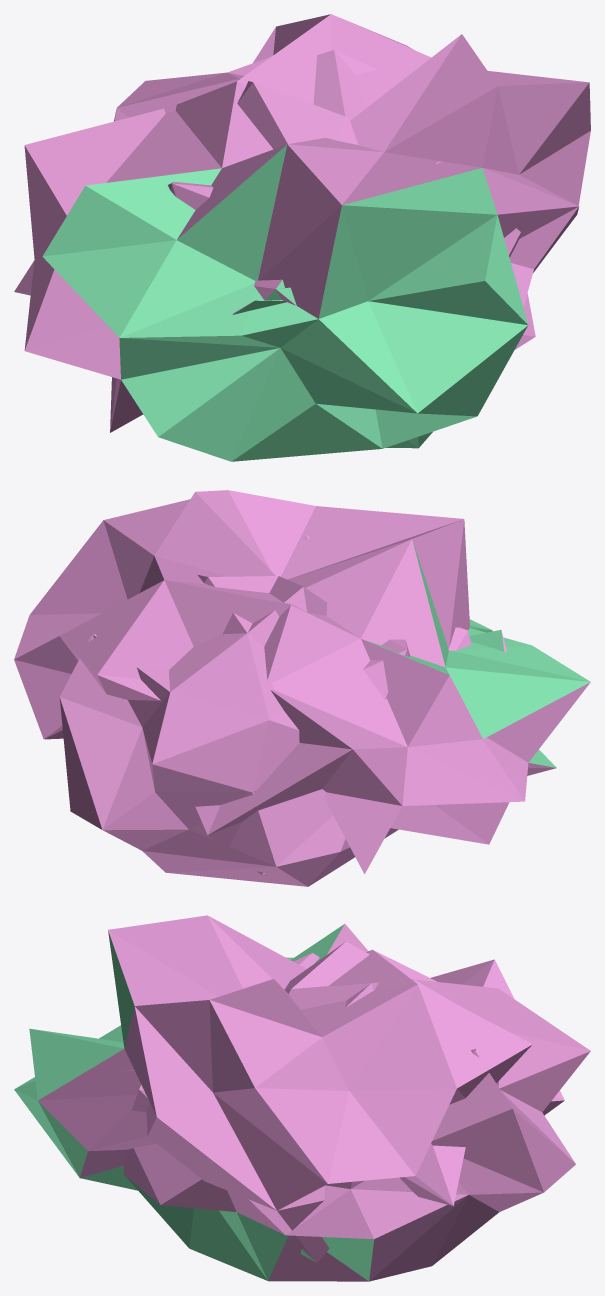
File: flower_1.glb
The picture shows the model from 3 angles, top to bottom: view 1: azimuth 30°, elevation 25°; view 2: azimuth 150°, elevation 25°; view 3: azimuth 270°, elevation 25°; orthographic projection. The views are drawn at different scales.
Parts seen in each view (by area): view 1: Icosphere.221; view 2: Icosphere.221; view 3: Icosphere.221.
Part boxes in pixels (<box>): Icosphere.221: <box>14,14,590,461</box>; Icosphere.221: <box>14,490,590,886</box>; Icosphere.221: <box>14,915,590,1281</box>.
Size of the model in its own units: 2.25 by 1.38 by 2.28.
